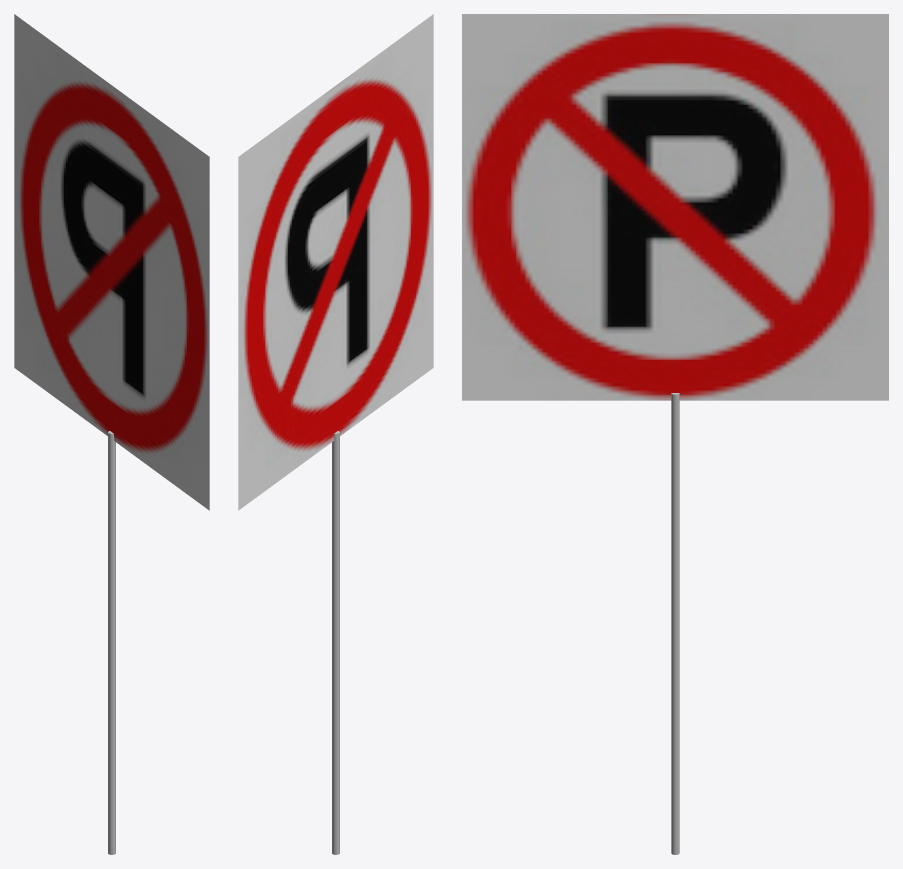
Rendered from noparking.obj.
3 views of the same model, side by side, from view 1: azimuth 30°, elevation 25°; view 2: azimuth 150°, elevation 25°; view 3: azimuth 270°, elevation 25° (orthographic). The views are drawn at different scales.
Parts seen in each view (by area): view 1: Plane; view 2: Plane; view 3: Plane.
Boxes of the visible parts, bbox=[...] form: Plane: bbox=[14, 14, 209, 854]; Plane: bbox=[238, 14, 433, 854]; Plane: bbox=[462, 14, 888, 854].
Size of the model in its own units: 0.04 by 4.34 by 2.
